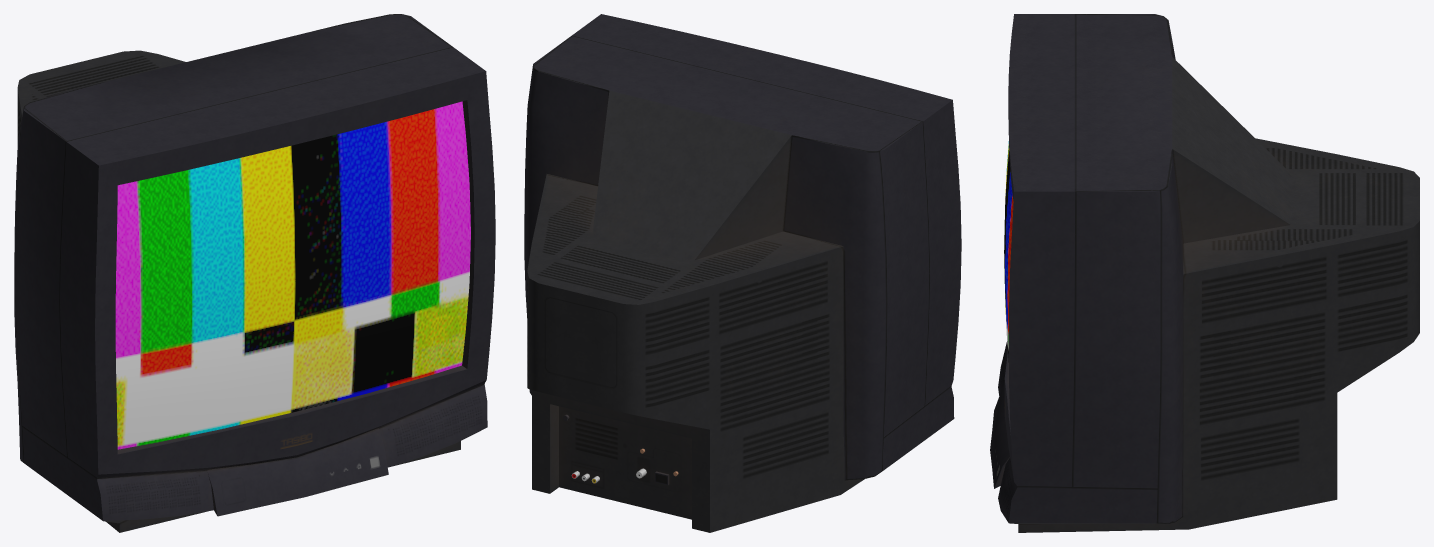
The model's file is retrotv.glb.
3 views of the same model, side by side, from view 1: azimuth 30°, elevation 25°; view 2: azimuth 150°, elevation 25°; view 3: azimuth 270°, elevation 25° (orthographic). The views are drawn at different scales.
Parts seen in each view (by area): view 1: 90sTV; view 2: 90sTV; view 3: 90sTV.
Part boxes in pixels (x1=…): 90sTV: x1=14, y1=14, x2=495, y2=532; 90sTV: x1=524, y1=14, x2=961, y2=532; 90sTV: x1=990, y1=14, x2=1419, y2=532.
Bounding box in the file's own units: 2.61 × 2.33 × 2.58.
2 materials, 2 textured.
